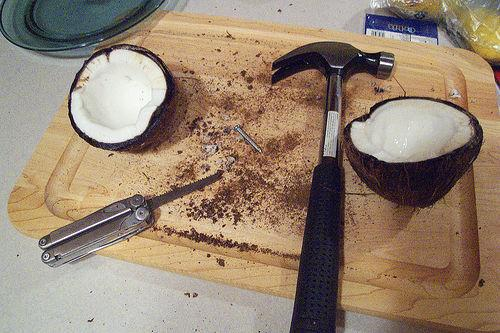hammer: (268, 36, 395, 332)
